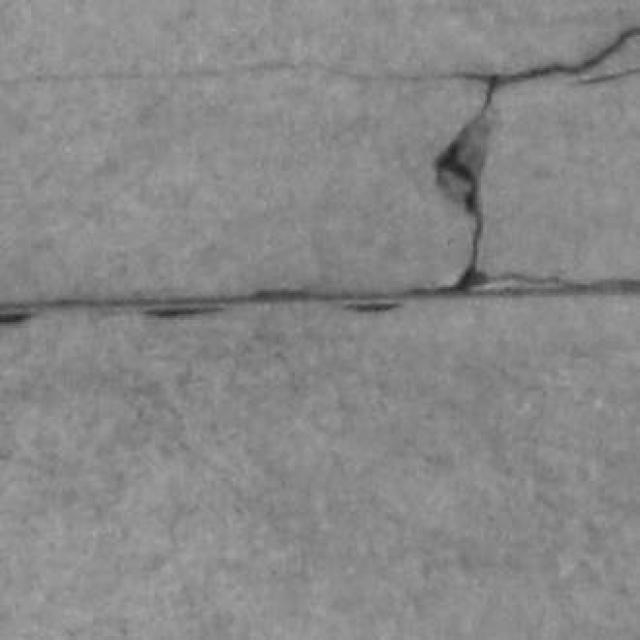crack: (0, 274, 639, 323), (450, 26, 639, 91), (435, 84, 494, 290), (0, 61, 447, 87), (576, 68, 639, 85)
